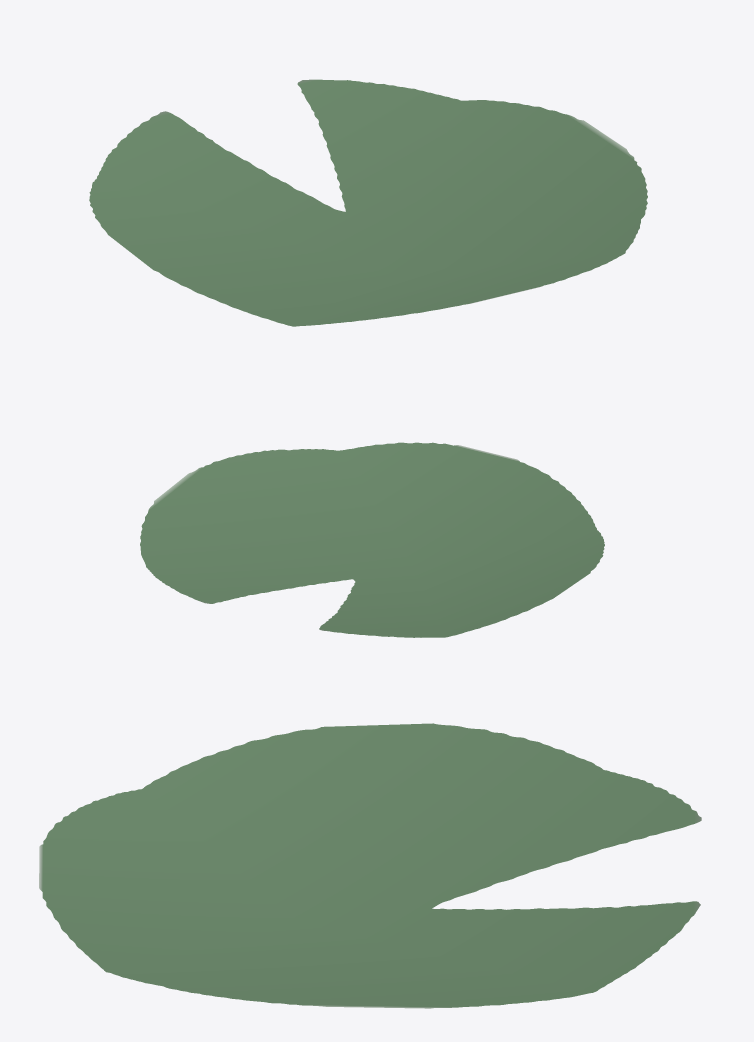
File: Lily_Pad_lg.fbx
The picture shows the model from 3 angles, top to bottom: view 1: azimuth 30°, elevation 25°; view 2: azimuth 150°, elevation 25°; view 3: azimuth 270°, elevation 25°; orthographic projection. The views are drawn at different scales.
Visible parts, largest first — view 1: polySurface45; view 2: polySurface45; view 3: polySurface45.
Boxes of the visible parts, x1=… form: polySurface45: x1=89, y1=79, x2=647, y2=326; polySurface45: x1=140, y1=442, x2=604, y2=637; polySurface45: x1=39, y1=723, x2=701, y2=1008.
Size of the model in its own units: 0.5427 by 0.051 by 0.4884.
